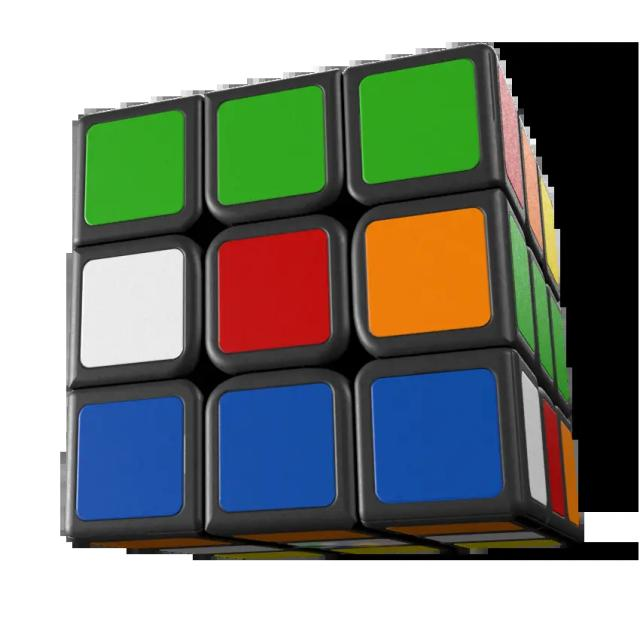Rubiks Cube: (64, 44, 581, 561)
